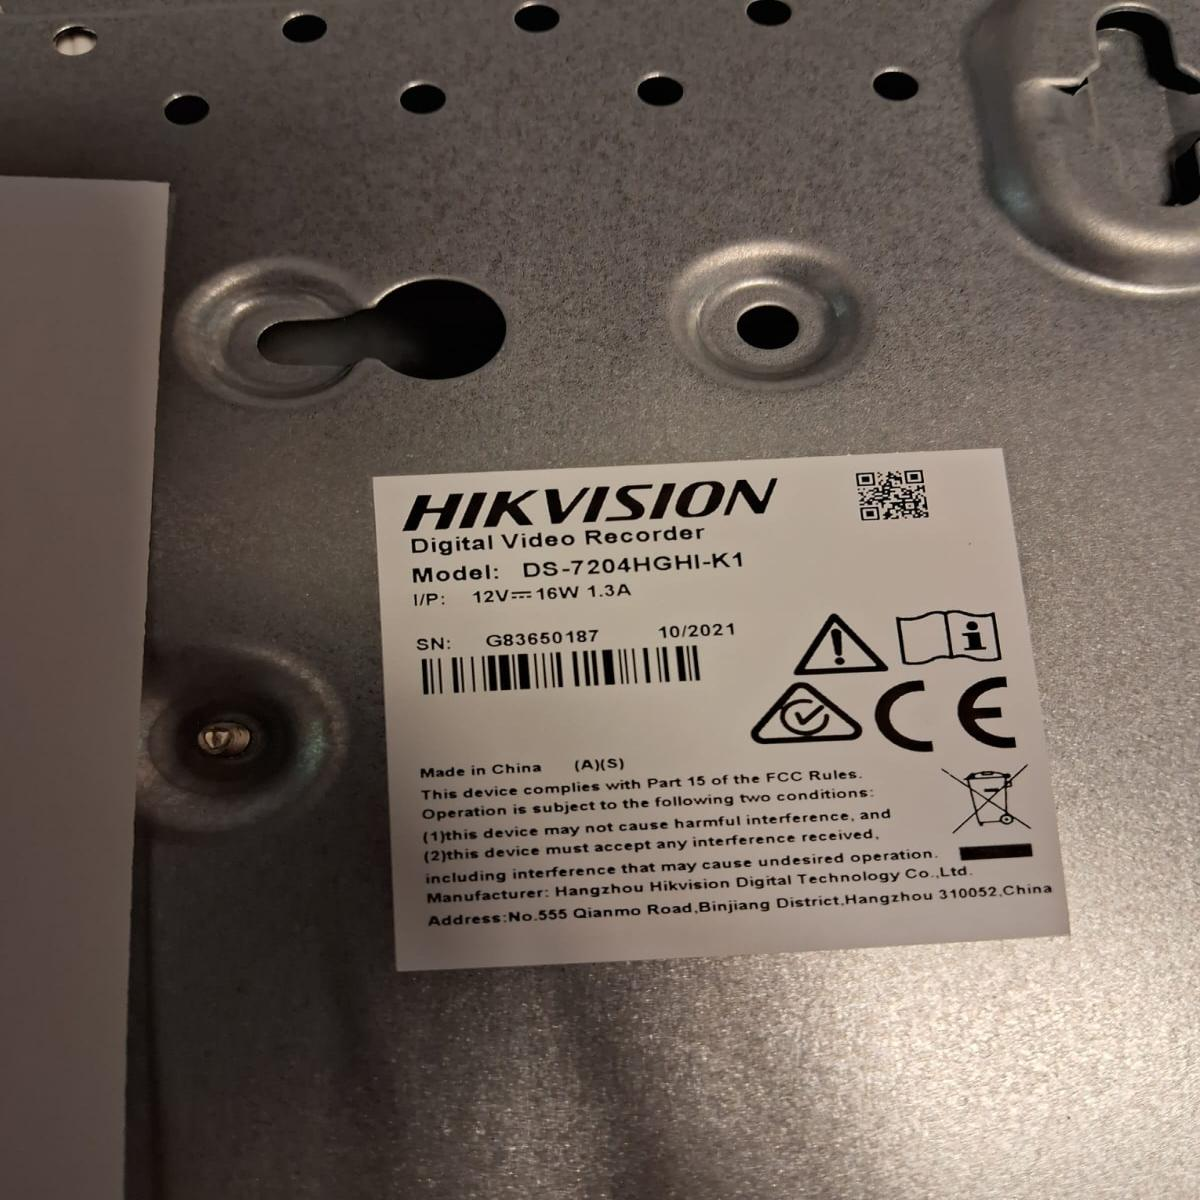Barcode: (405, 634, 722, 705)
Label: (380, 446, 1075, 962)
